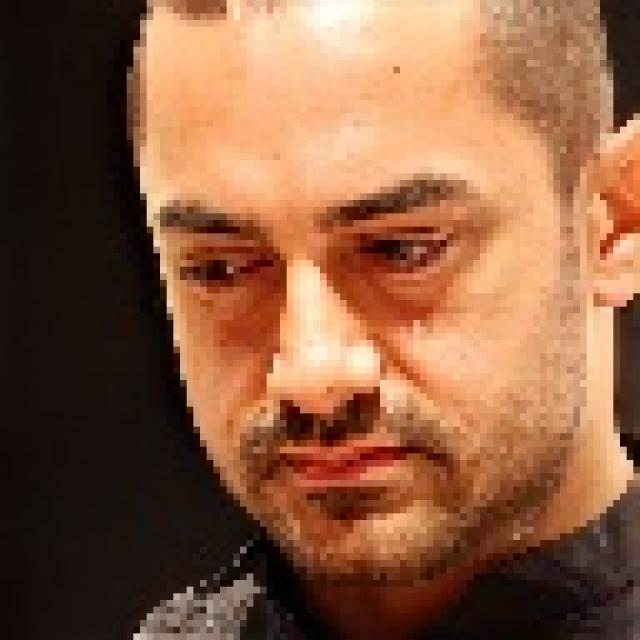sad: (133, 23, 568, 573)
